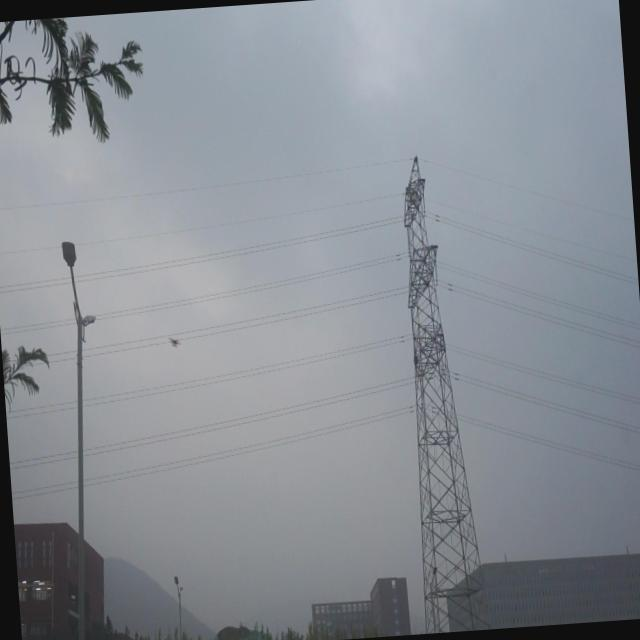drone: (168, 334, 180, 350)
